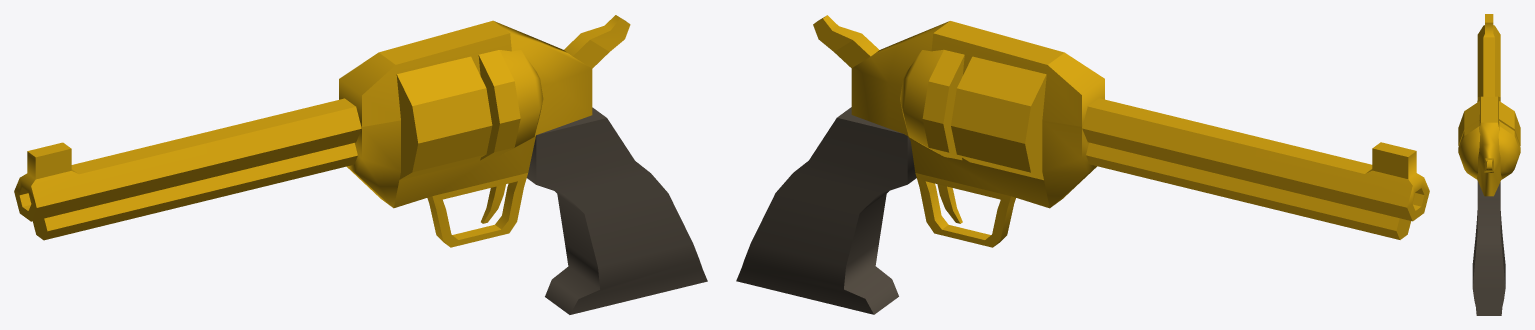
Rendered from Revolver.fbx.
The picture shows the model from 3 angles, left to right: view 1: azimuth 30°, elevation 25°; view 2: azimuth 150°, elevation 25°; view 3: azimuth 270°, elevation 25°; orthographic projection. The views are drawn at different scales.
Parts seen in each view (by area): view 1: Revolver; view 2: Revolver; view 3: Revolver.
Part boxes in pixels (x1,y1,x2,y2): Revolver: (14, 15, 707, 314); Revolver: (736, 15, 1429, 314); Revolver: (1458, 14, 1520, 315).
Size of the model in its own units: 31.53 by 13.15 by 5.07.
